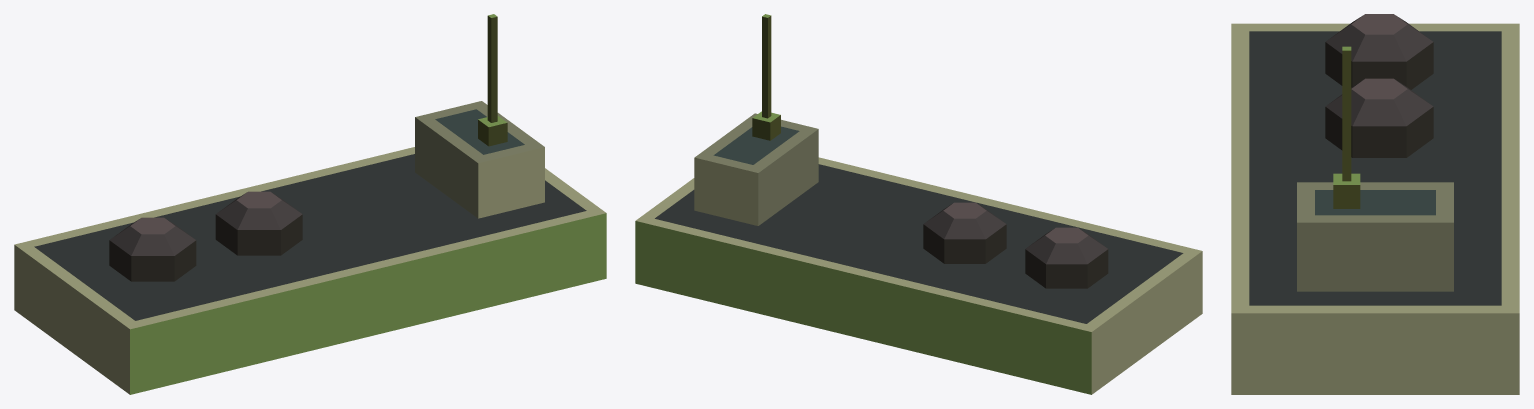
The model's file is TB_CITY_Skysc_C_Top_Green.FBX.
3 views of the same model, side by side, from view 1: azimuth 30°, elevation 25°; view 2: azimuth 150°, elevation 25°; view 3: azimuth 270°, elevation 25° (orthographic). The views are drawn at different scales.
Visible parts, largest first — view 1: TB_CITY_Skysc_C_Top_Green; view 2: TB_CITY_Skysc_C_Top_Green; view 3: TB_CITY_Skysc_C_Top_Green.
Part boxes in pixels (x1,y1,x2,y2): TB_CITY_Skysc_C_Top_Green: (14,14,606,394); TB_CITY_Skysc_C_Top_Green: (635,14,1202,394); TB_CITY_Skysc_C_Top_Green: (1231,14,1519,394).
Size of the model in its own units: 38 by 18.68 by 16.
